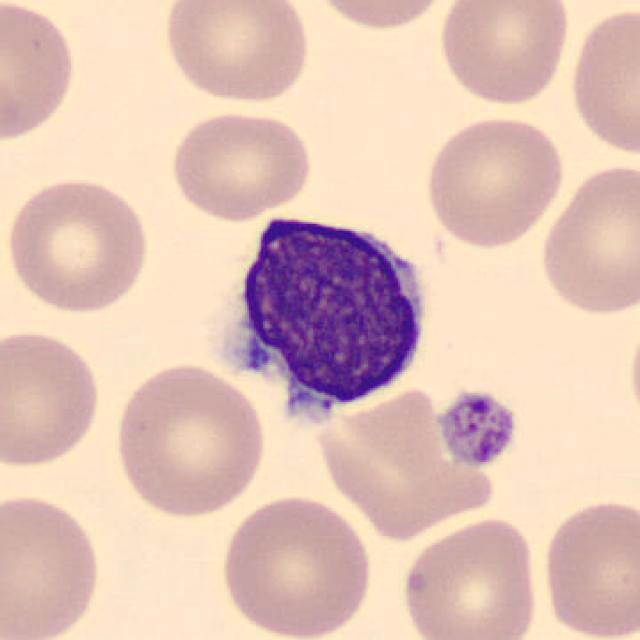Lymphocyte: (205, 197, 439, 439)
Platelets: (432, 384, 523, 471)
RBC: (110, 358, 270, 522), (215, 490, 377, 640), (2, 173, 153, 317), (421, 111, 567, 250), (396, 513, 544, 640), (166, 106, 316, 222), (535, 159, 638, 321), (158, 0, 315, 106), (0, 488, 105, 640), (0, 324, 105, 472), (434, 0, 574, 108), (536, 493, 638, 640), (0, 0, 80, 145), (566, 3, 638, 160), (302, 0, 456, 33)
